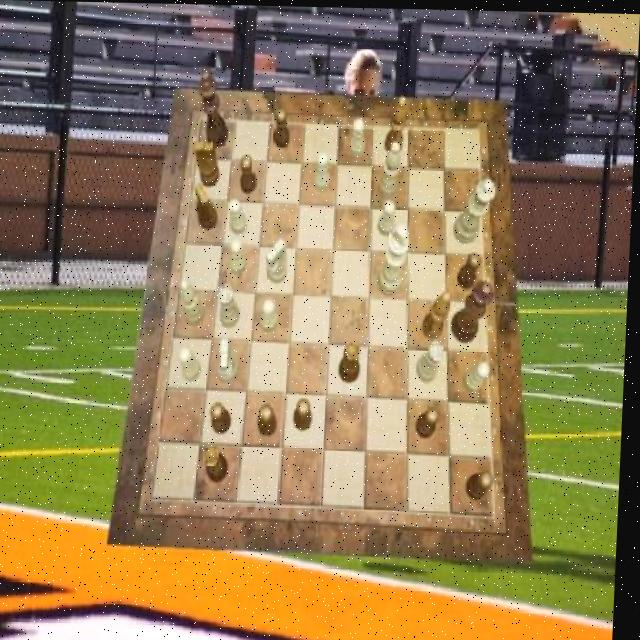bishop: (424, 289, 453, 339), (386, 95, 408, 153)
black-bishop: (196, 67, 232, 149)
black-king: (194, 140, 223, 187), (194, 184, 220, 230)
black-knight: (458, 250, 482, 288), (470, 469, 498, 498), (419, 404, 443, 437), (213, 401, 237, 434), (239, 154, 258, 192), (275, 108, 292, 148), (261, 403, 280, 436), (297, 398, 316, 430)
black-pawn: (454, 277, 498, 342)
black-queen: (207, 443, 232, 481), (341, 342, 364, 382)
black-rook: (379, 139, 402, 197), (180, 279, 207, 325)
white-bishop: (379, 221, 413, 295)
white-king: (267, 237, 291, 283), (218, 338, 242, 382)
white-knight: (465, 359, 492, 392), (181, 345, 205, 380), (230, 198, 250, 234), (349, 117, 367, 157), (314, 152, 332, 191), (231, 236, 249, 274), (378, 199, 396, 236), (263, 299, 282, 333)
white-pawn: (455, 176, 499, 242)
white-queen: (418, 338, 447, 381), (220, 283, 244, 327)
